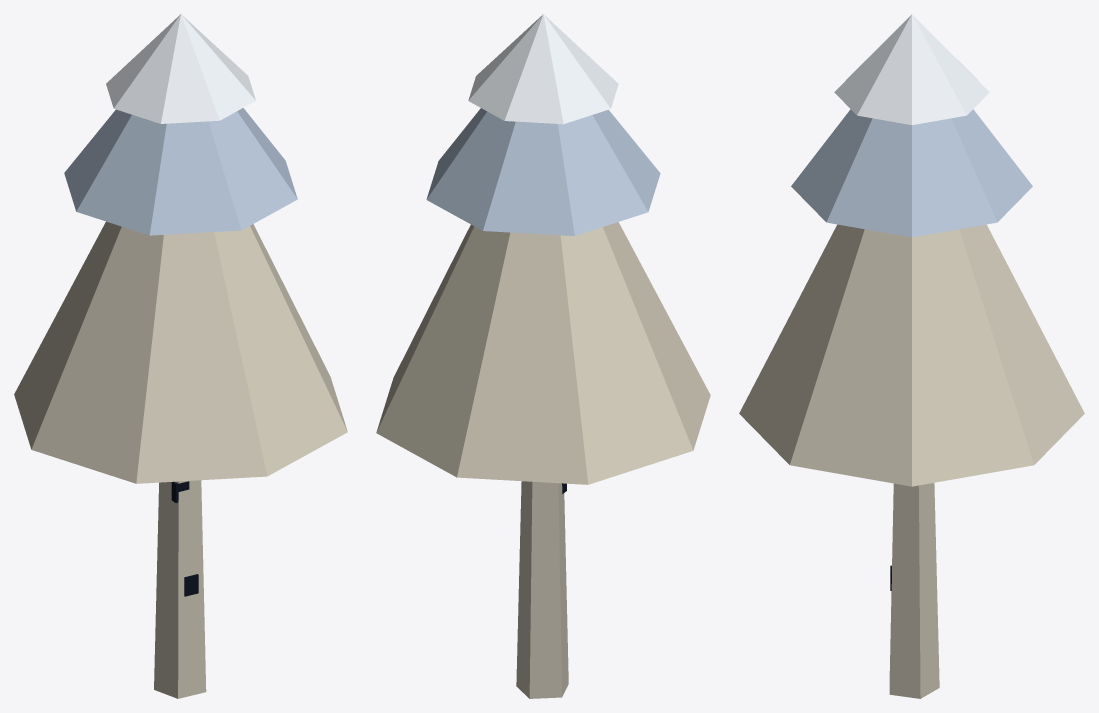
Rendered from tree_birch.glb.
3 renders of one model, left to right at view 1: azimuth 30°, elevation 25°; view 2: azimuth 150°, elevation 25°; view 3: azimuth 270°, elevation 25°, orthographic.
Parts seen in each view (by area): view 1: tree_birch; view 2: tree_birch; view 3: tree_birch.
Part boxes in pixels (left/top/right/bottom): tree_birch: left=14, top=14, right=347, bottom=698; tree_birch: left=376, top=14, right=710, bottom=698; tree_birch: left=739, top=14, right=1084, bottom=698.
Bounding box in the file's own units: 2 × 4.3 × 2.
1 material, 1 textured.
